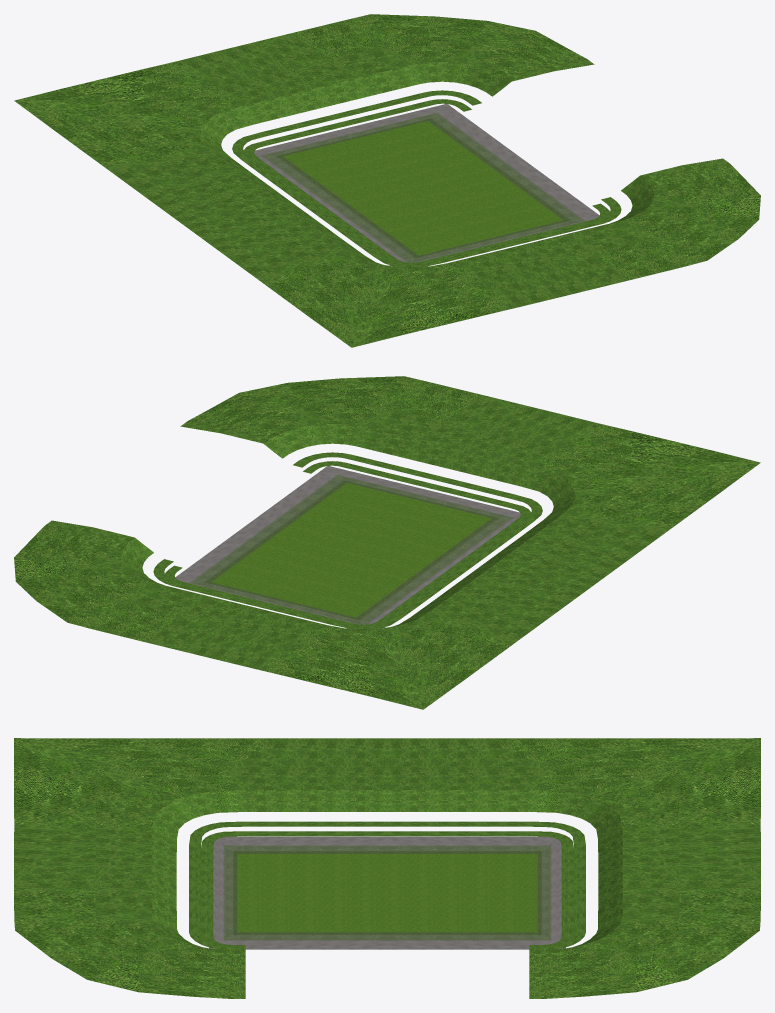
Rendered from st_020_field.fbx.
3 views of the same model, one above another, from view 1: azimuth 30°, elevation 25°; view 2: azimuth 150°, elevation 25°; view 3: azimuth 270°, elevation 25° (orthographic). The views are drawn at different scales.
Parts seen in each view (by area): view 1: field_out; view 2: field_out; view 3: field_out.
Part boxes in pixels (x1,y1,x2,y2): field_out: [14, 14, 760, 347]; field_out: [14, 376, 760, 709]; field_out: [14, 738, 760, 998].
Bounding box in the file's own units: 223 × 10.3 × 274.
